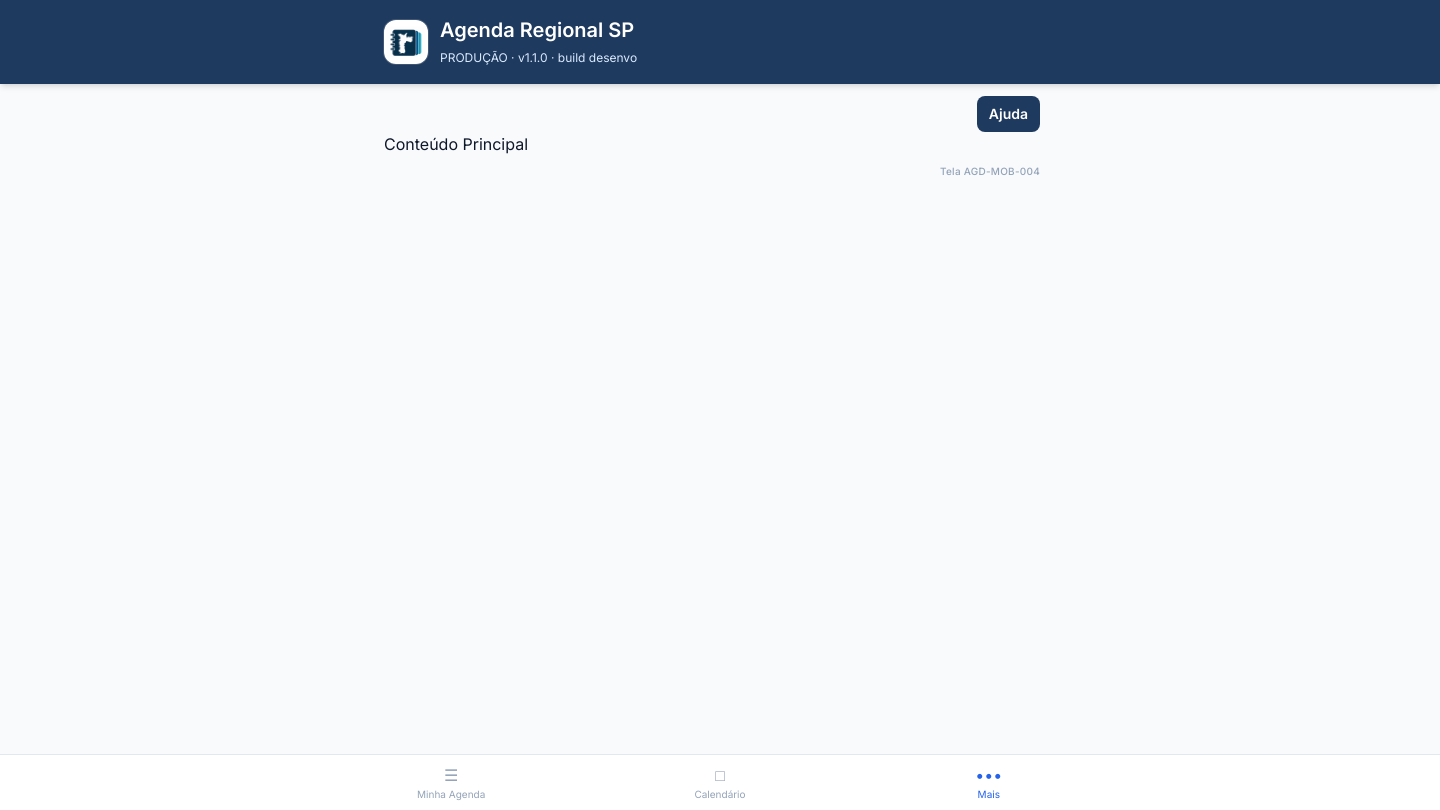
Scenario: Navegação e Visibilidade de Permissões — S12 Frontend › 2. OPERADOR_PORTARIA vê Portaria, mas NÃO vê Relatórios nem Auditoria
Click the button "••• Mais" at point(989, 782), box [922,755,1056,809]
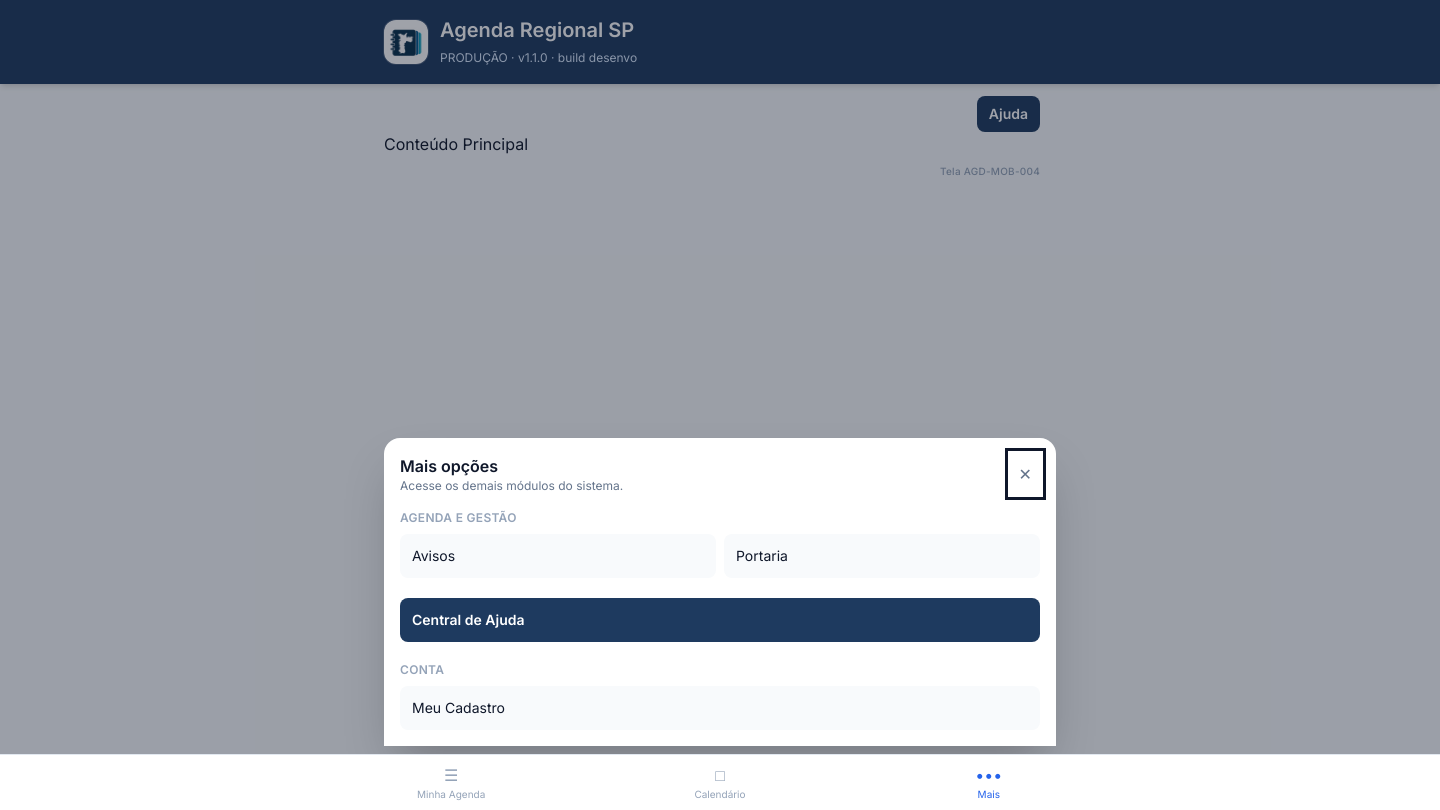
Check: the button "Portaria" is shown, box [724,534,1040,578]
